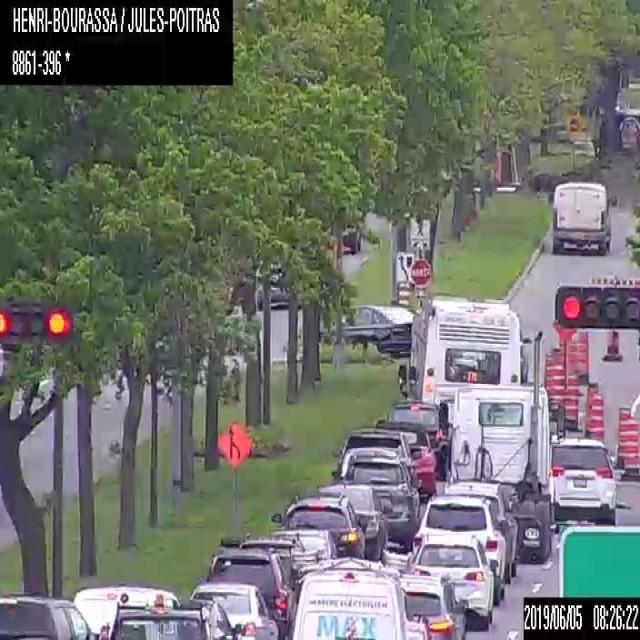bus: (396, 298, 522, 407)
construction: (216, 420, 252, 544), (551, 318, 576, 387), (619, 416, 639, 482), (564, 368, 581, 432), (614, 405, 629, 469), (550, 362, 564, 420), (588, 393, 604, 438), (576, 330, 589, 383), (603, 329, 623, 362), (543, 353, 554, 409)
vehicle: (449, 385, 551, 564), (412, 495, 507, 602), (290, 555, 407, 639), (332, 446, 422, 548), (407, 532, 498, 630), (207, 548, 296, 639), (443, 481, 517, 578), (271, 492, 365, 558), (548, 436, 616, 527), (318, 483, 392, 561), (332, 430, 418, 493), (368, 418, 436, 497), (73, 585, 179, 635), (116, 598, 245, 639), (314, 304, 413, 356), (393, 572, 468, 639), (386, 402, 450, 480), (189, 582, 277, 638), (0, 593, 98, 639), (550, 179, 608, 256), (238, 538, 305, 602), (268, 526, 338, 560), (255, 257, 302, 307), (584, 382, 598, 436), (341, 220, 360, 252)
